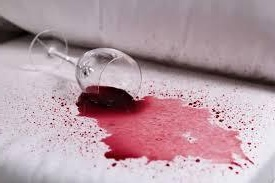wine: (78, 99, 239, 173)
